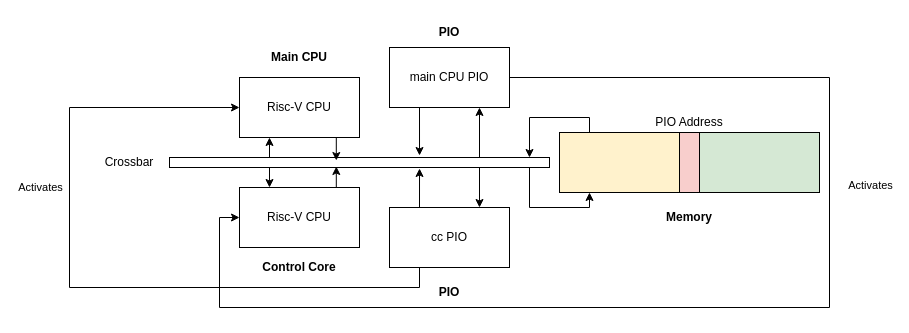
Image size: 909x333. Some labels were removed from this diagram. Here are the shapes that lost their labels. From the top down, the centre of each, then its label:
At point (619, 162): "Main CPU Memory".
At point (759, 162): "Control Core Memory".
